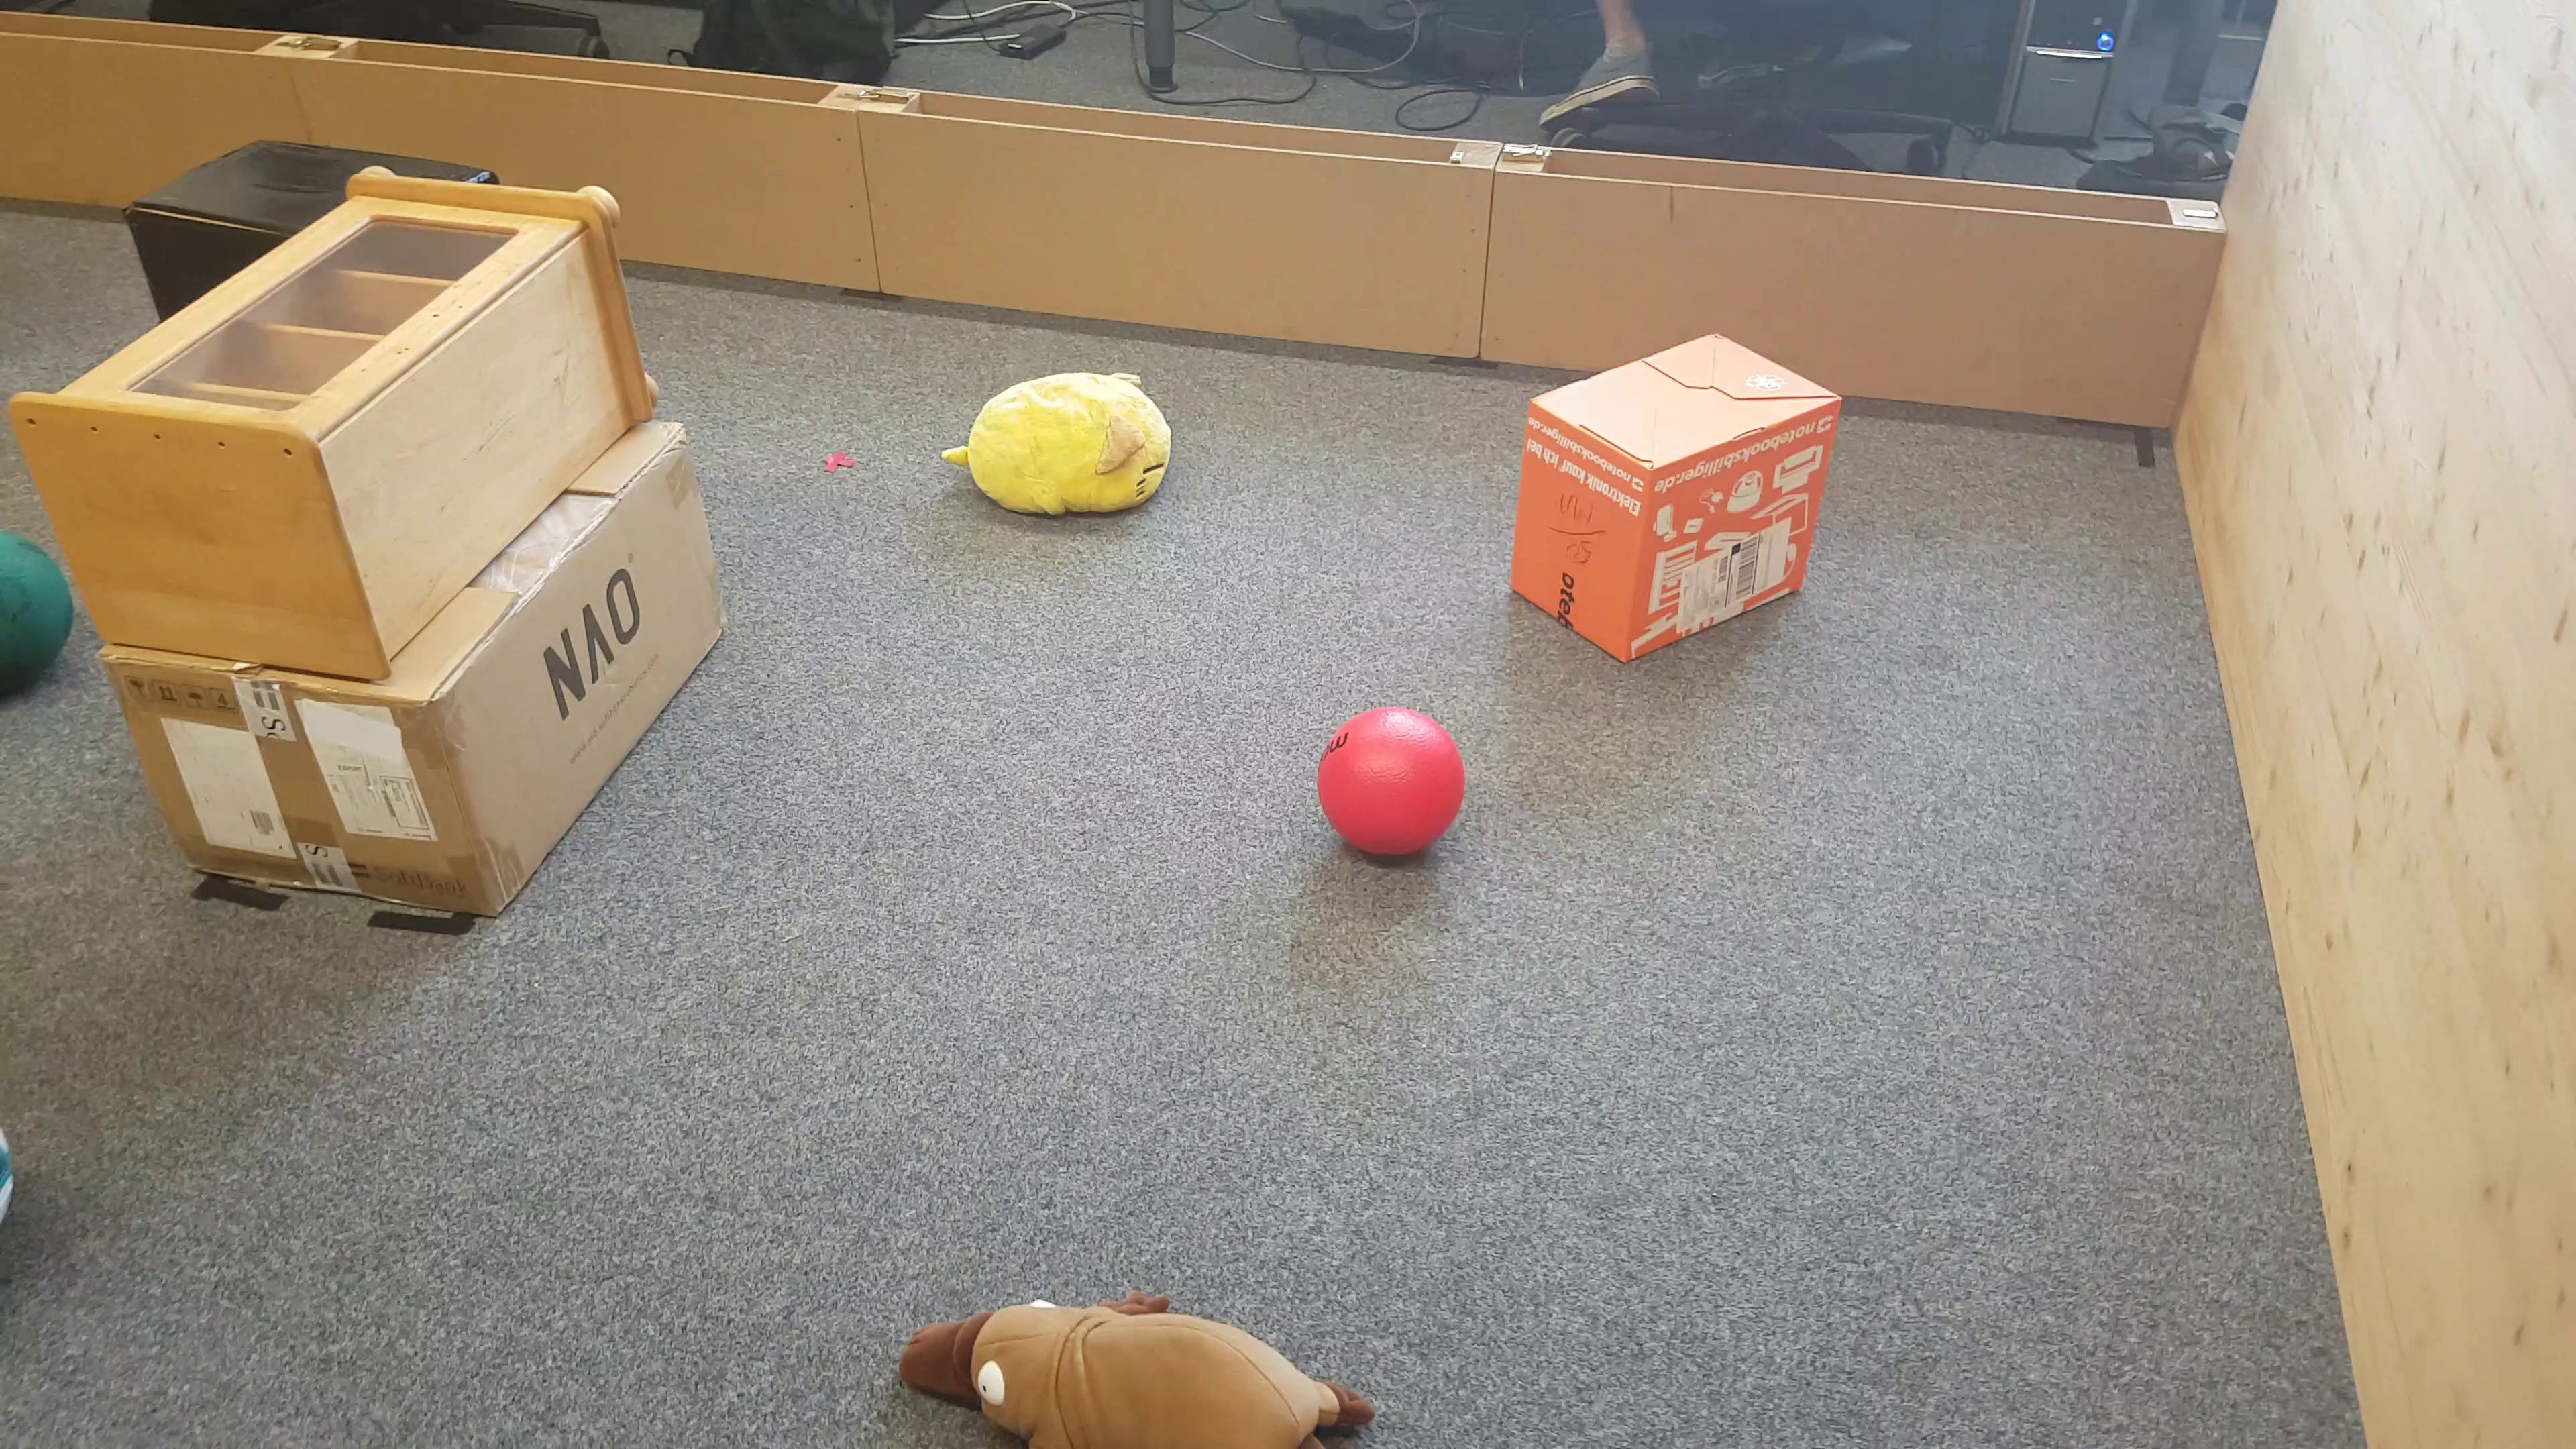grasp: (897, 1286, 1364, 1449), (952, 366, 1169, 517)
kick: (1318, 704, 1461, 863), (5, 531, 71, 722), (4, 1123, 23, 1244)
push: (1509, 333, 1844, 662), (126, 138, 297, 237)
